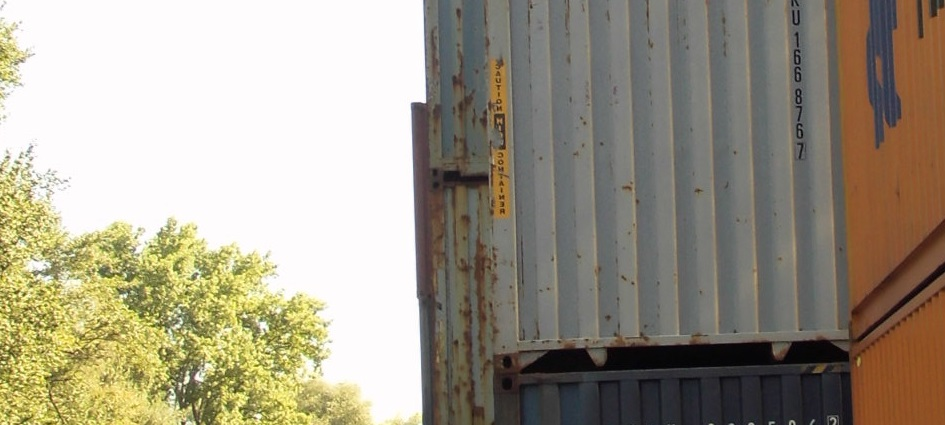container_no_door: (495, 1, 839, 367)
